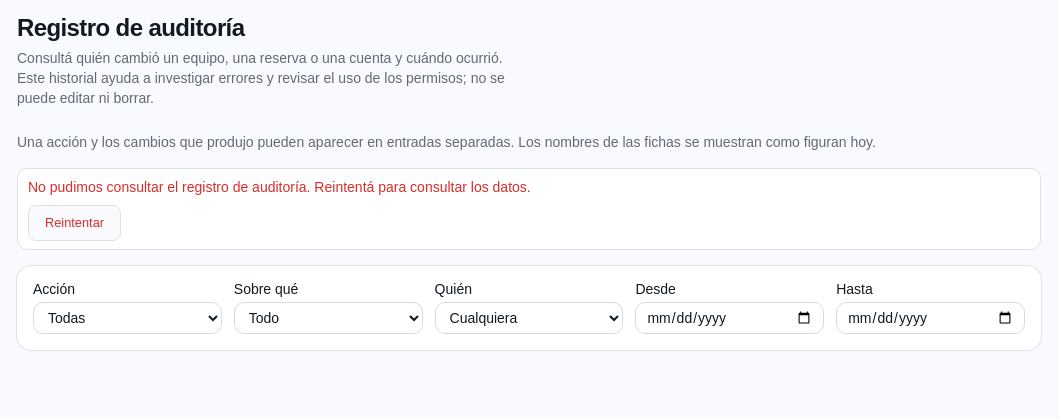
AuditoriaPage › un fallo del registro no anuncia vacío y permite reintentar
The image size is (1059, 419).
Expected: the text "No pudimos consultar el registro de auditoría" is shown, [28,179,310,195]
Click the button "Reintentar": (74, 223) [28,205,121,241]
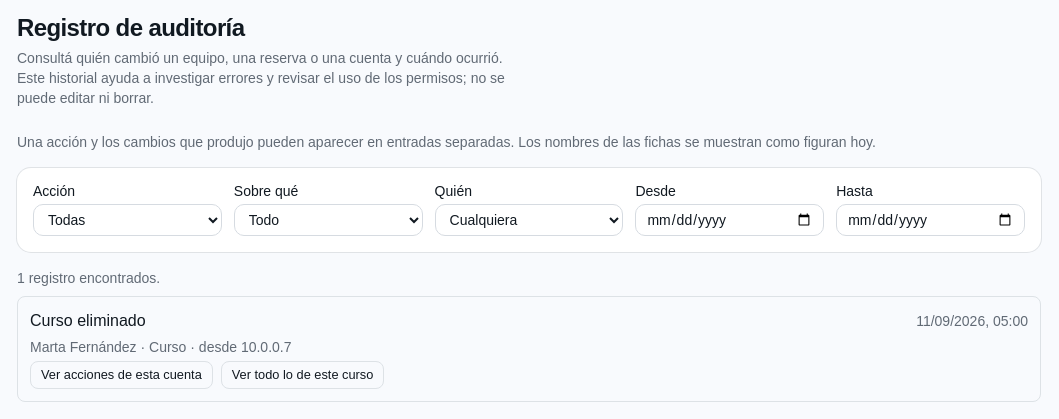
Expected: the text "· desde 10.0.0.7" is shown, [186,339,292,355]
